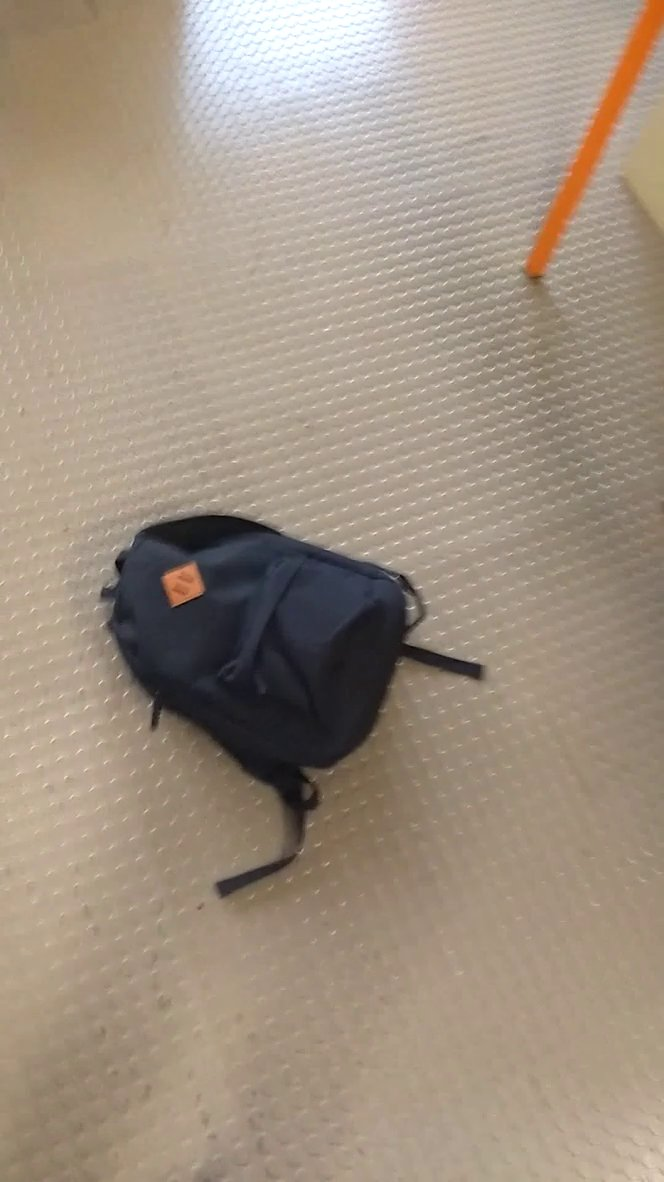bag: (96, 509, 500, 905)
